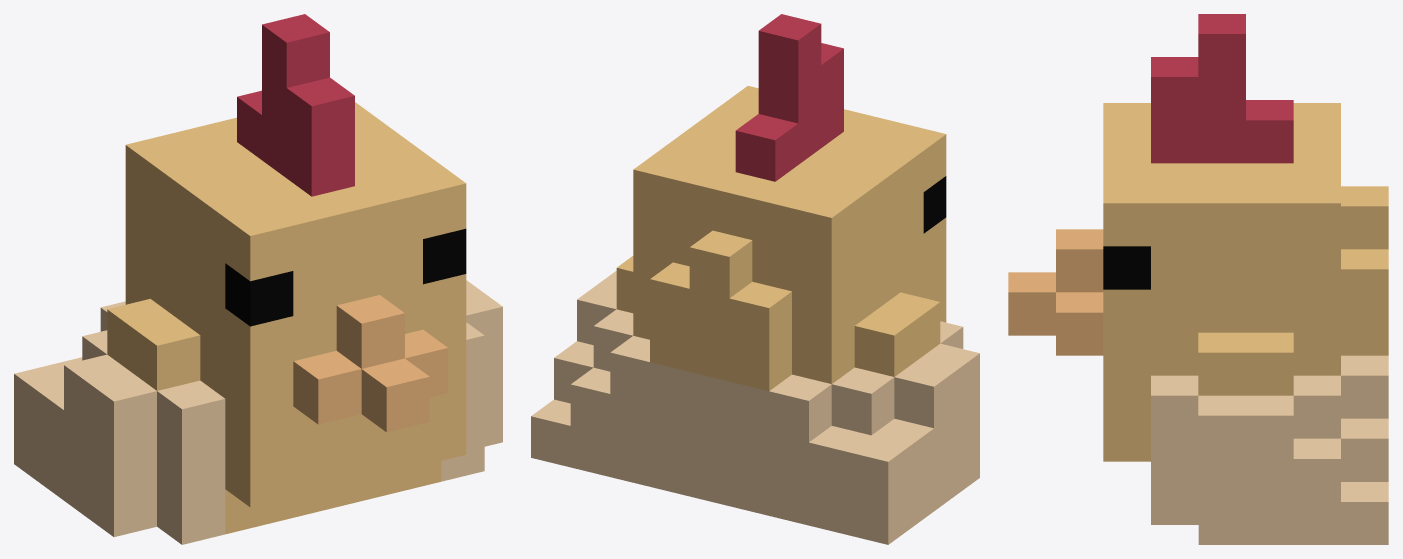
File: gallina_mochila.fbx
3 views of the same model, side by side, from view 1: azimuth 30°, elevation 25°; view 2: azimuth 150°, elevation 25°; view 3: azimuth 270°, elevation 25° (orthographic). The views are drawn at different scales.
Parts seen in each view (by area): view 1: gallina decapitada jeje_9x10x8; view 2: gallina decapitada jeje_9x10x8; view 3: gallina decapitada jeje_9x10x8.
Part boxes in pixels (bbox=[...]): gallina decapitada jeje_9x10x8: bbox=[14, 14, 502, 544]; gallina decapitada jeje_9x10x8: bbox=[531, 14, 979, 544]; gallina decapitada jeje_9x10x8: bbox=[1008, 14, 1388, 544].
Size of the model in its own units: 1000 by 1111 by 889.
